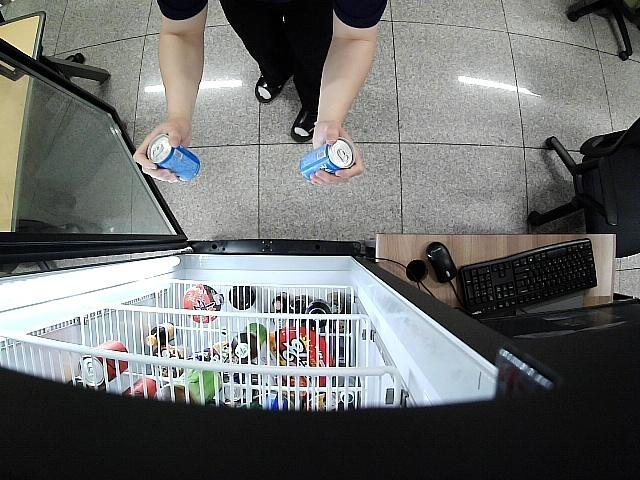15_letsbe: (146, 134, 202, 182), (300, 136, 354, 180)
